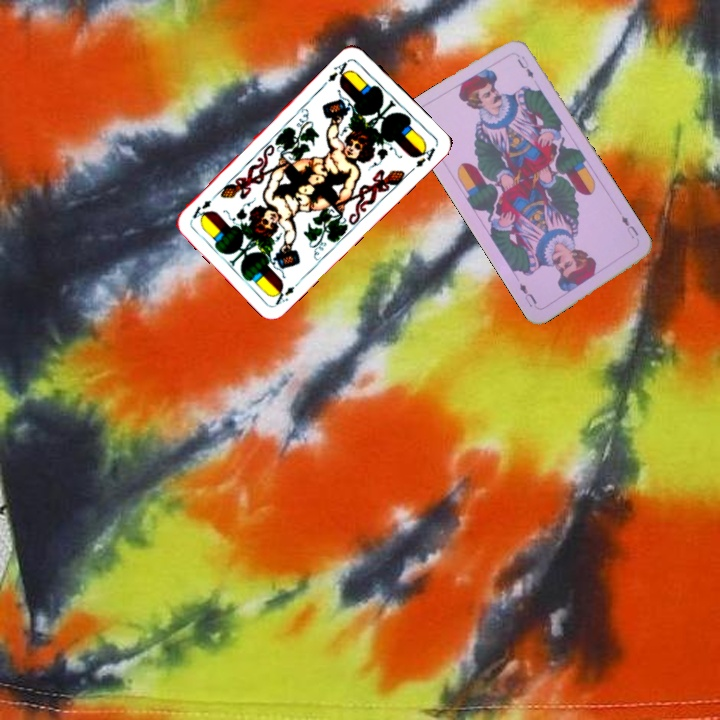EA: (269, 275, 304, 308), (323, 56, 354, 85)
EU: (617, 212, 641, 241)
